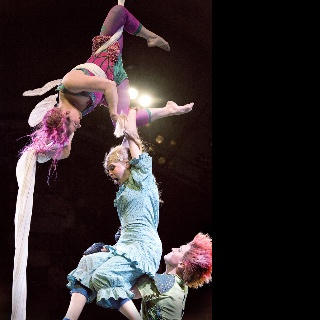without_mask: (164, 244, 189, 263), (69, 113, 82, 134)
